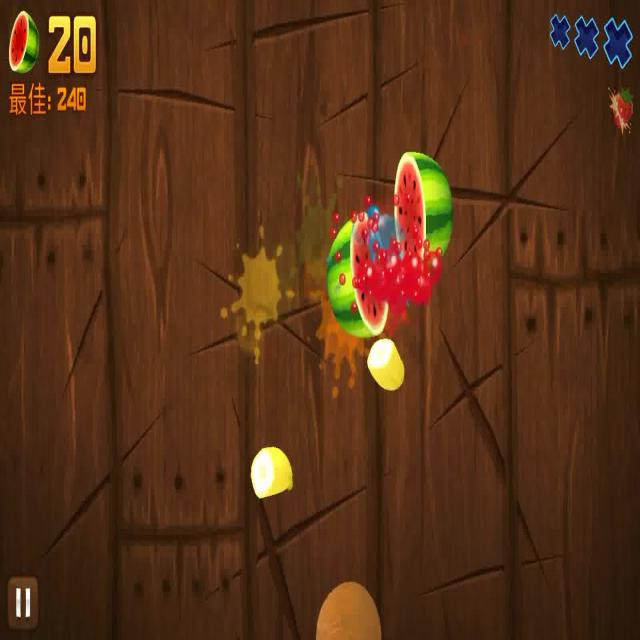fruit: (324, 211, 391, 344), (390, 148, 454, 274), (314, 582, 384, 640), (252, 442, 301, 497), (361, 344, 409, 394)
